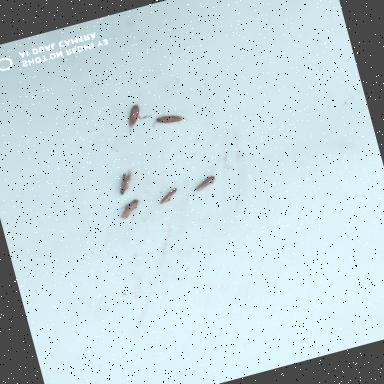pbw: (120, 100, 155, 135), (149, 104, 189, 132), (112, 166, 142, 196), (115, 197, 145, 221), (190, 173, 219, 194), (156, 186, 182, 206)
